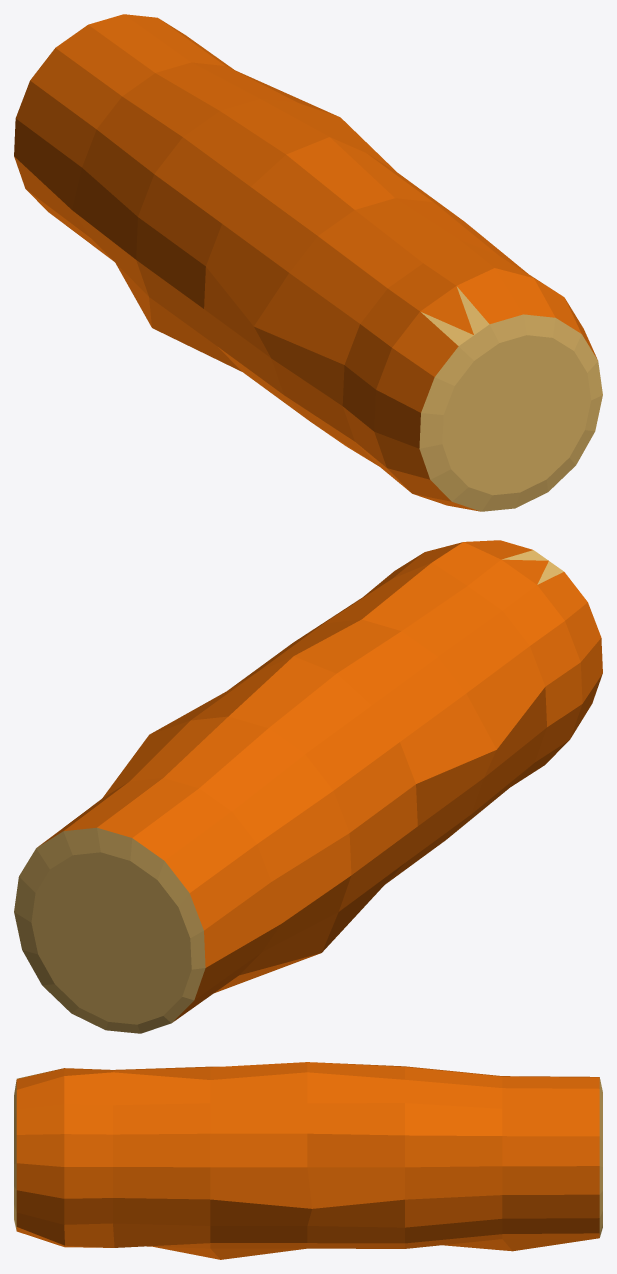
The model's file is Kayu obstacle.fbx.
3 renders of one model, top to bottom at view 1: azimuth 30°, elevation 25°; view 2: azimuth 150°, elevation 25°; view 3: azimuth 270°, elevation 25°, orthographic. The views are drawn at different scales.
Parts seen in each view (by area): view 1: Wood.005; view 2: Wood.005; view 3: Wood.005.
Part boxes in pixels (<box>): Wood.005: <box>14,14,602,511</box>; Wood.005: <box>14,540,602,1033</box>; Wood.005: <box>14,1062,602,1259</box>.
Size of the model in its own units: 220 by 227 by 640.
